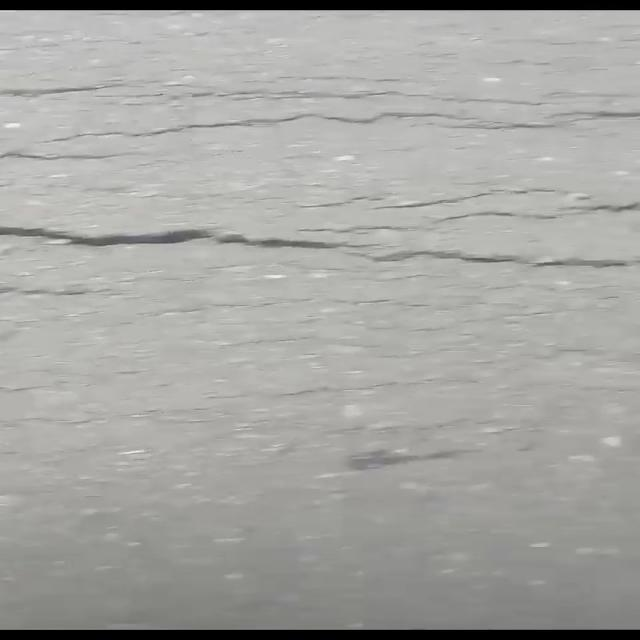Melintang: (0, 212, 640, 279), (0, 103, 640, 161)
